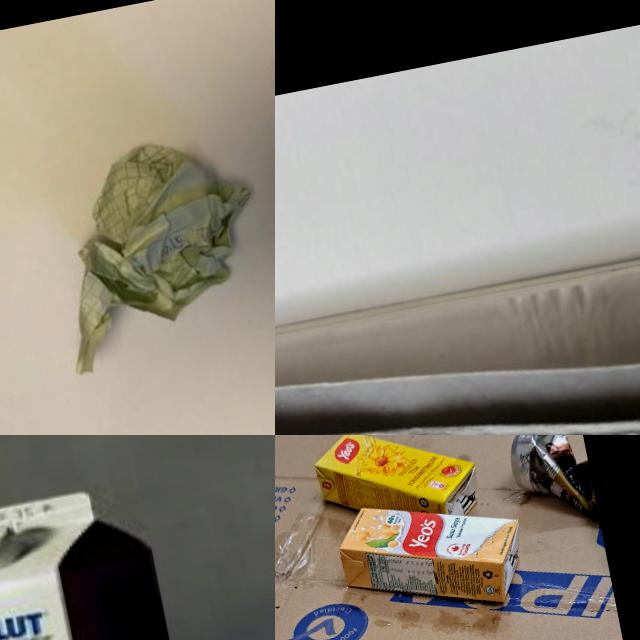caixinha: (331, 479, 534, 632), (0, 480, 190, 640), (311, 435, 485, 540)
lata: (504, 435, 601, 542)
papel: (275, 209, 640, 435), (37, 123, 275, 373)
papelão: (275, 435, 640, 640)
tampa plástica: (0, 519, 19, 577)
